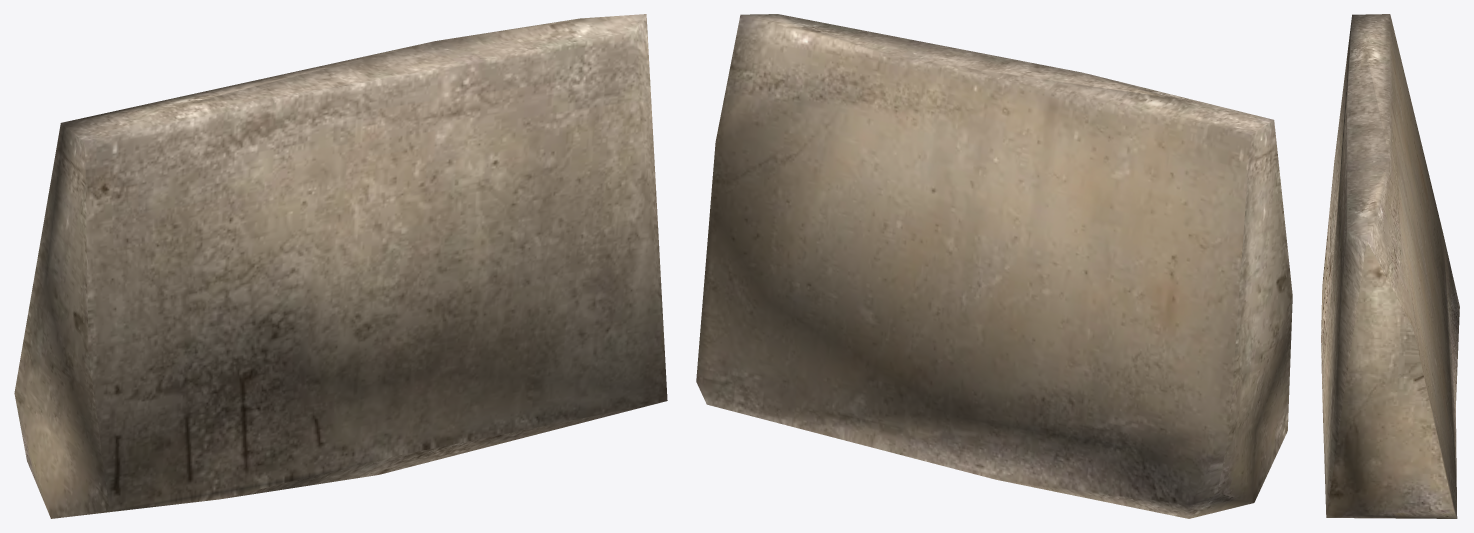
The model's file is barrier.glb.
3 views of the same model, side by side, from view 1: azimuth 30°, elevation 25°; view 2: azimuth 150°, elevation 25°; view 3: azimuth 270°, elevation 25° (orthographic). The views are drawn at different scales.
Visible parts, largest first — view 1: concrete_road_barrier_02; view 2: concrete_road_barrier_02; view 3: concrete_road_barrier_02.
Part boxes in pixels (<box>): concrete_road_barrier_02: <box>14,14,667,518</box>; concrete_road_barrier_02: <box>696,14,1292,518</box>; concrete_road_barrier_02: <box>1321,14,1459,518</box>.
Size of the model in its own units: 1.53 by 1.02 by 0.4133.
1 material, 1 textured.
